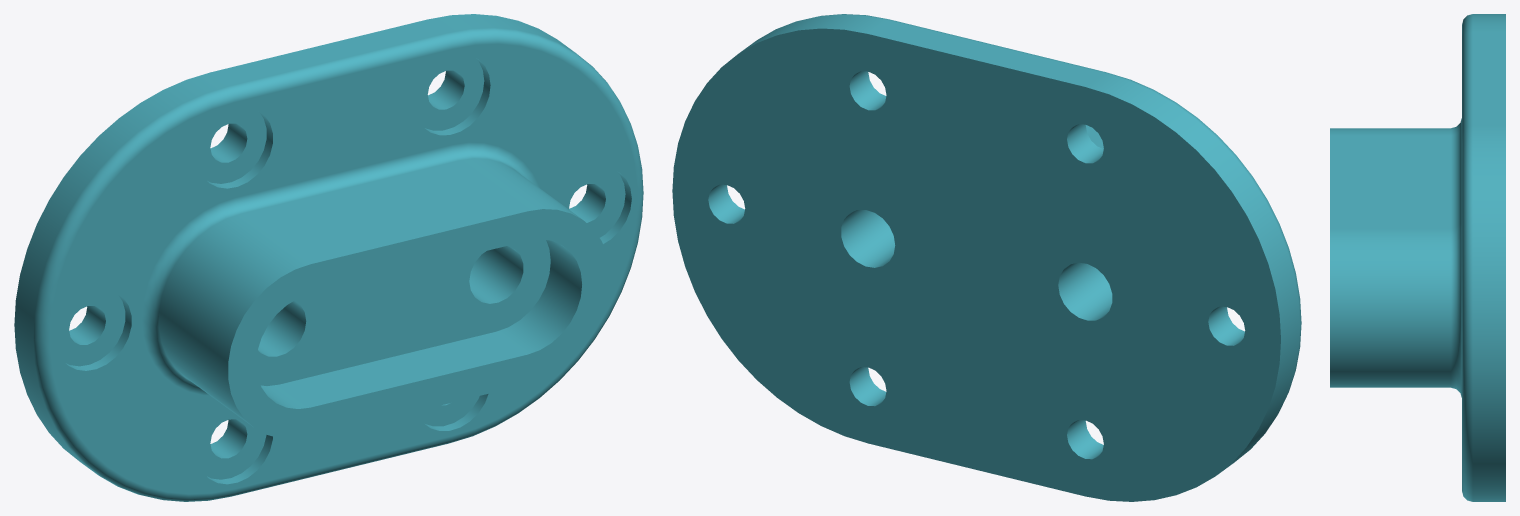
The picture shows the model from 3 angles, left to right: view 1: azimuth 30°, elevation 25°; view 2: azimuth 150°, elevation 25°; view 3: azimuth 270°, elevation 25°; orthographic projection. The views are drawn at different scales.
Visible parts, largest first — view 1: Solid1; view 2: Solid1; view 3: Solid1.
Boxes of the visible parts, bbox=[...] form: Solid1: bbox=[14, 14, 643, 501]; Solid1: bbox=[672, 14, 1301, 501]; Solid1: bbox=[1330, 14, 1505, 501].
Size of the model in its own units: 0.056 by 0.036 by 0.016.
